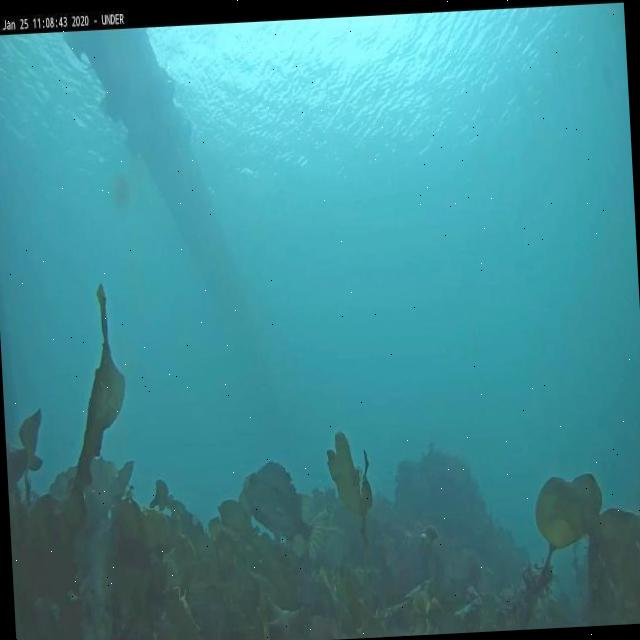fish: (244, 459, 332, 570)
